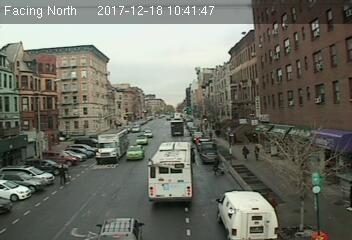bus: (145, 141, 194, 204)
car: (93, 215, 144, 240), (125, 144, 144, 159), (200, 149, 219, 164)
truck: (218, 191, 276, 240), (95, 130, 128, 161)
